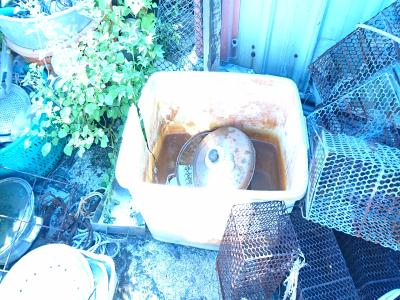box: (112, 65, 312, 255)
plate: (192, 123, 257, 189)
